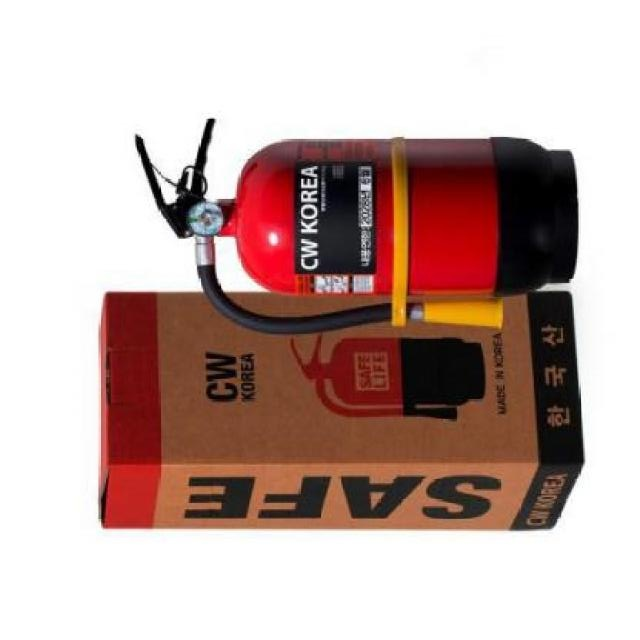fire extinguisher: (136, 119, 579, 336)
